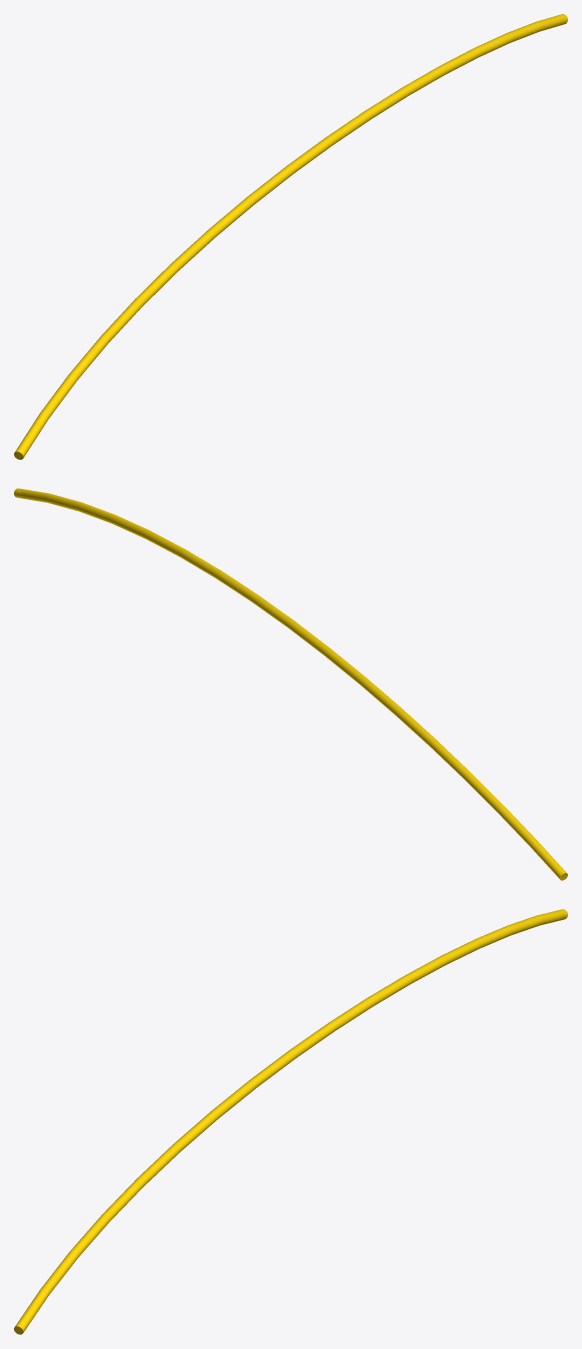
File: Event_421115418_track_32.fbx
3 renders of one model, top to bottom at view 1: azimuth 90°, elevation 25°; view 2: azimuth 150°, elevation 25°; view 3: azimuth 270°, elevation 25°, orthographic. The views are drawn at different scales.
Parts seen in each view (by area): view 1: Model; view 2: Model; view 3: Model.
Boxes of the visible parts, box(x1,y1,x2,y2) form: Model: box(14, 14, 567, 459); Model: box(14, 488, 567, 880); Model: box(14, 909, 567, 1334).
Size of the model in its own units: 3.85 by 0.3435 by 2.1.
